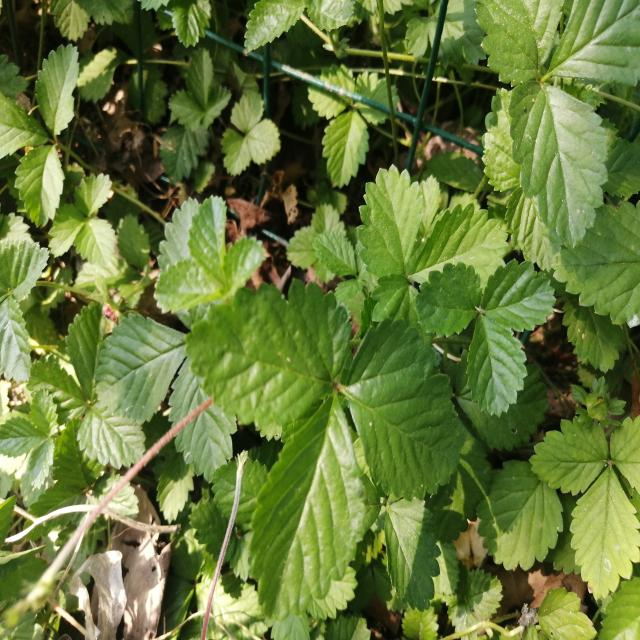Mock_strawberry: (333, 180, 560, 408)
